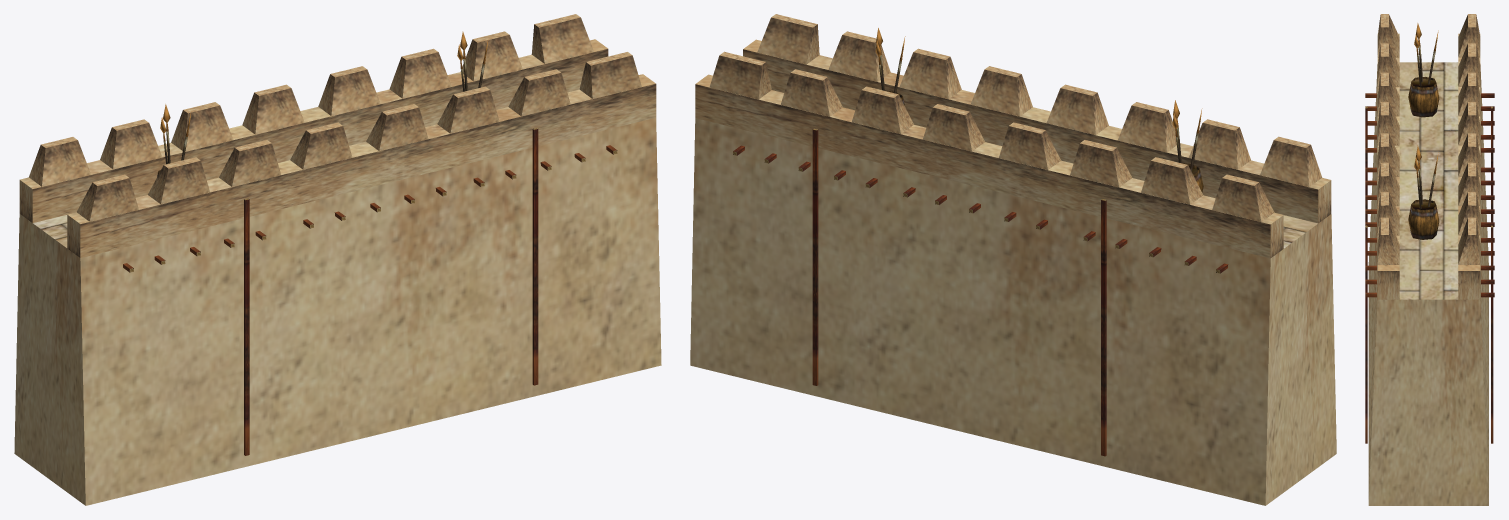
File: wall_long.dae
3 views of the same model, side by side, from view 1: azimuth 30°, elevation 25°; view 2: azimuth 150°, elevation 25°; view 3: azimuth 270°, elevation 25° (orthographic). The views are drawn at different scales.
Parts seen in each view (by area): view 1: wall_long.001; view 2: wall_long.001; view 3: wall_long.001.
Part boxes in pixels (<box>): wall_long.001: <box>14,14,661,505</box>; wall_long.001: <box>690,14,1336,505</box>; wall_long.001: <box>1365,14,1494,505</box>.
Size of the model in its own units: 32.05 by 7.36 by 18.22.
